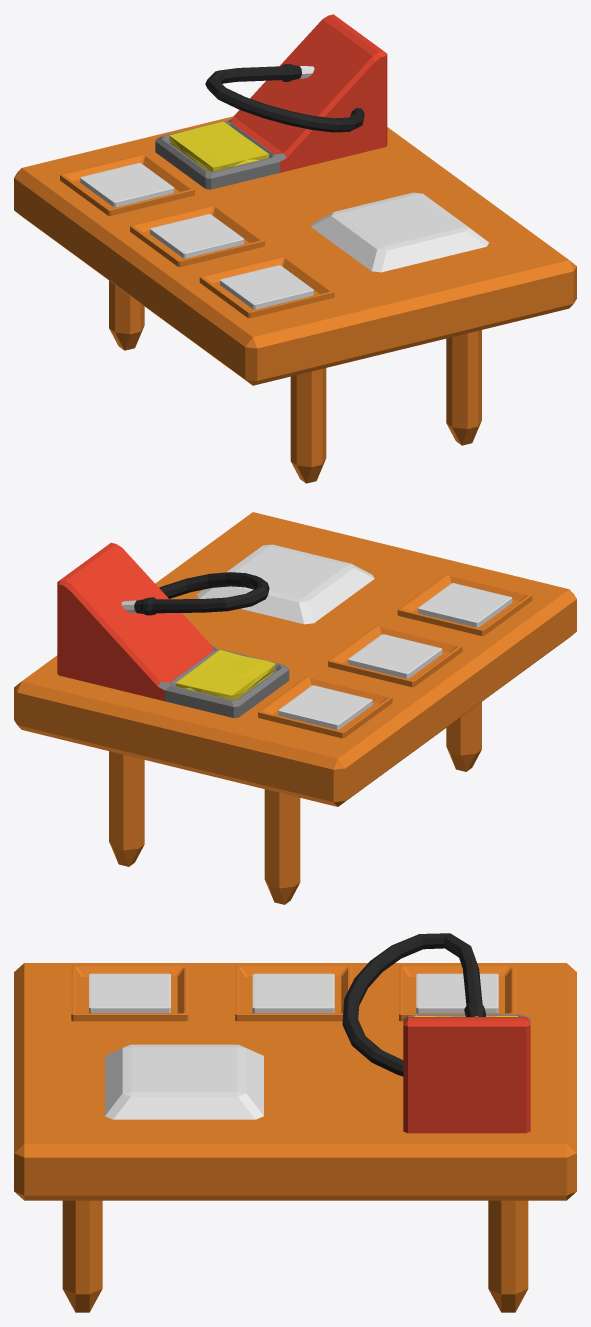
The model's file is SolderingStation_Machine.fbx.
The picture shows the model from 3 angles, top to bottom: view 1: azimuth 30°, elevation 25°; view 2: azimuth 150°, elevation 25°; view 3: azimuth 270°, elevation 25°; orthographic projection. The views are drawn at different scales.
Visible parts, largest first — view 1: Cube.001; view 2: Cube.001; view 3: Cube.001.
Part boxes in pixels (box(x1,y1,x2,y2)): Cube.001: box(14, 14, 576, 483); Cube.001: box(14, 512, 576, 904); Cube.001: box(14, 933, 576, 1312).
Size of the model in its own units: 434 by 344 by 545.
